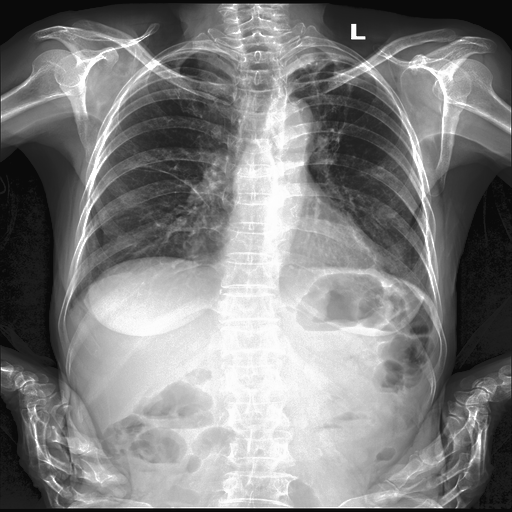Calcification: (281, 43, 357, 75)
Pneumothorax: (301, 55, 371, 145), (130, 164, 210, 208), (364, 244, 380, 270)
